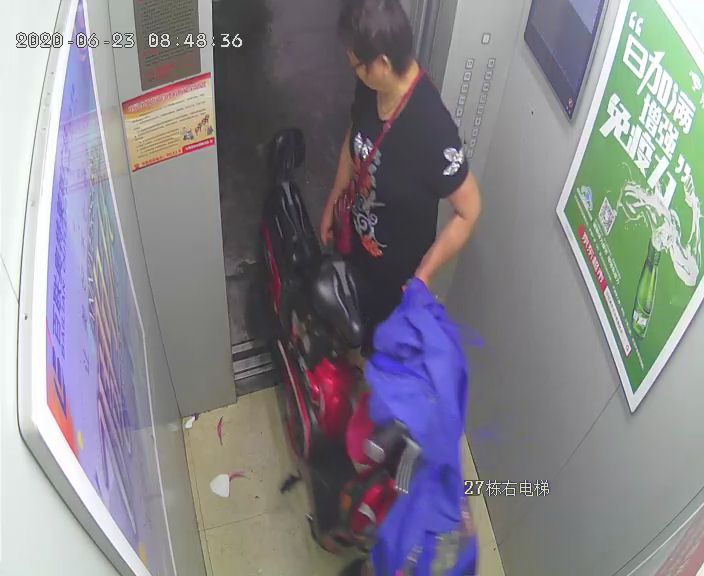Electric-bicycle: (266, 128, 461, 536)
